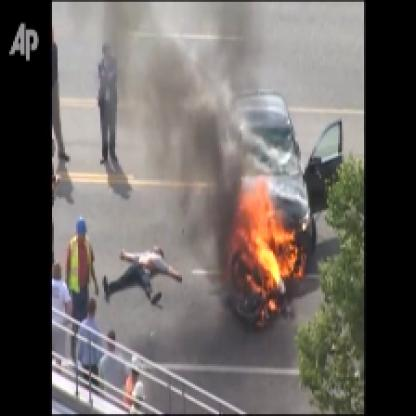Fire: (221, 167, 312, 325)
Smoke: (121, 2, 236, 243)
